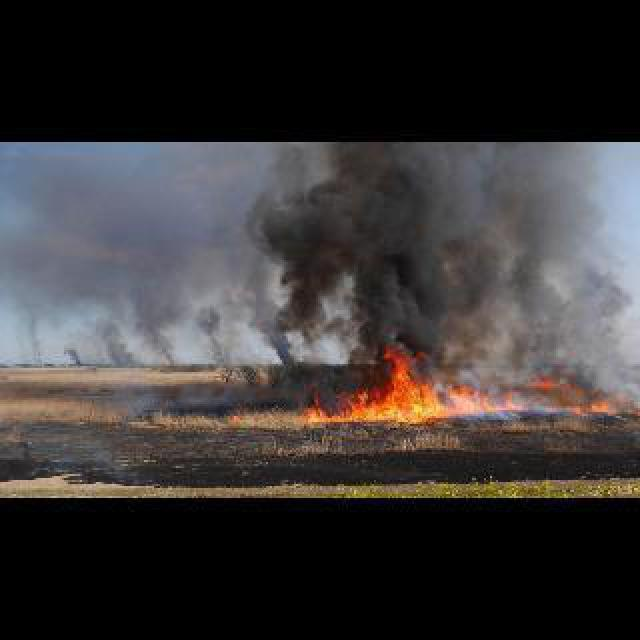Fire: (343, 354, 444, 428)
Smoke: (267, 135, 611, 386), (0, 140, 261, 355)
